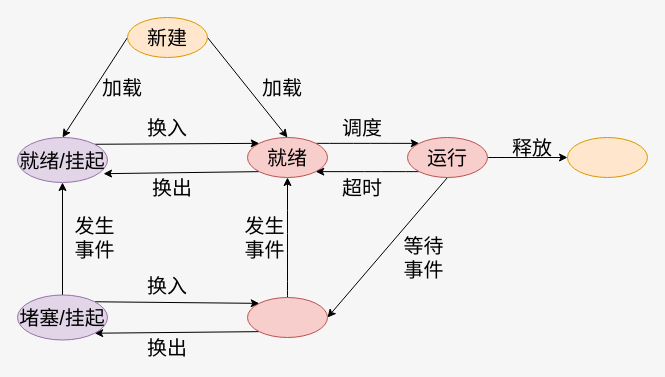
Image size: 665x377. Some labels were removed from this diagram. The shapes that lost their labels are listed below. From the top down, each one's centre as x and y in pixels, then its label:
At point (607, 157): "终止".
At point (287, 317): "堵塞".
